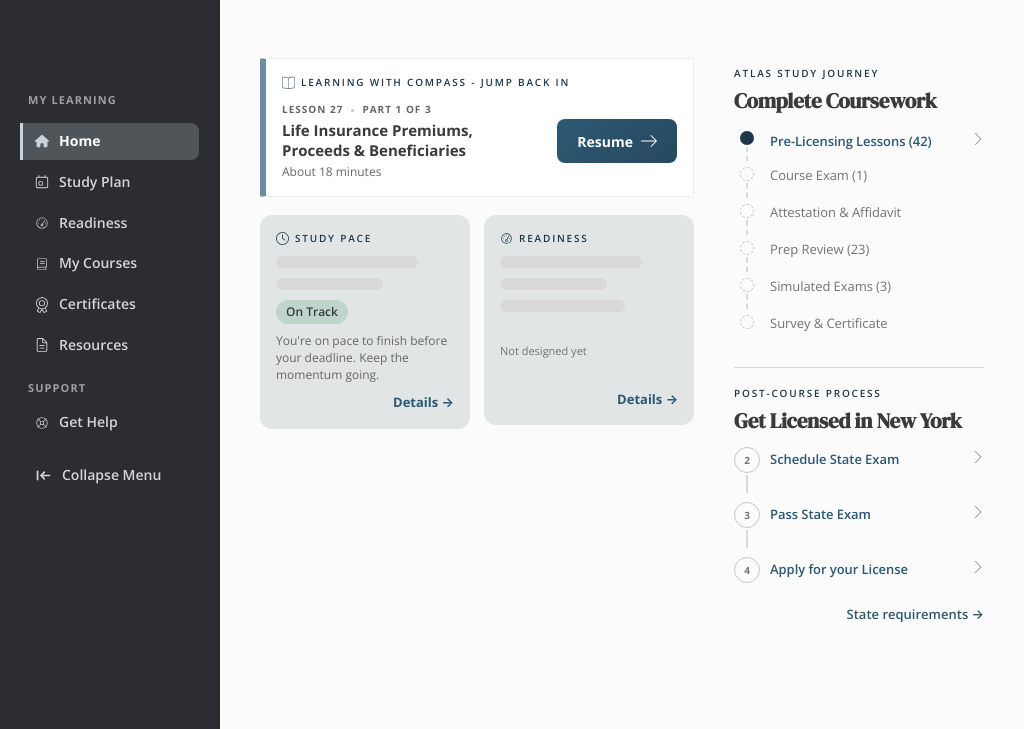
Test: View Requirements shows the requirements and nothing else › states the requirements from XCEL's published page
(page scrolled)
What coordinates should you click on to do the following:
click the button "State requirements →"
I would click on:
 (915, 615)
Its box is top-left (847, 605), bottom-right (984, 624).
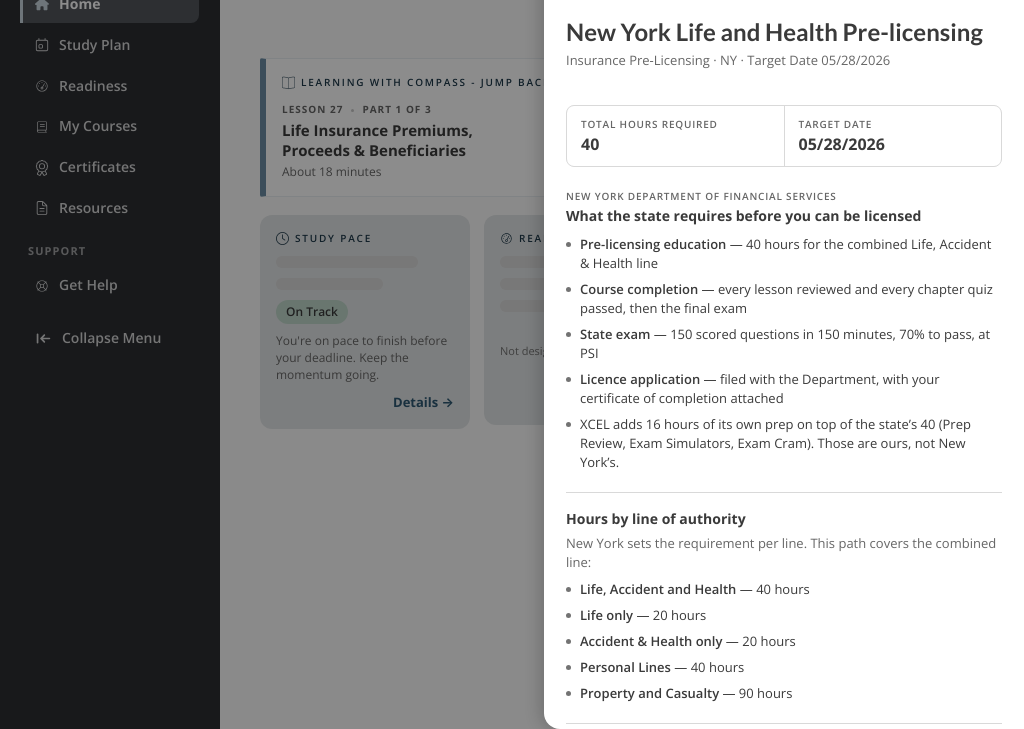
Result: the dialog shows "Department of Financial Services" at top-left (566, 188), bottom-right (837, 202)
Result: the dialog shows "70%" at top-left (580, 324), bottom-right (990, 362)
Result: the dialog shows "PSI" at top-left (580, 324), bottom-right (990, 362)
